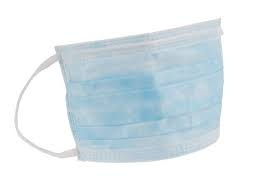mask: (61, 40, 222, 149)
